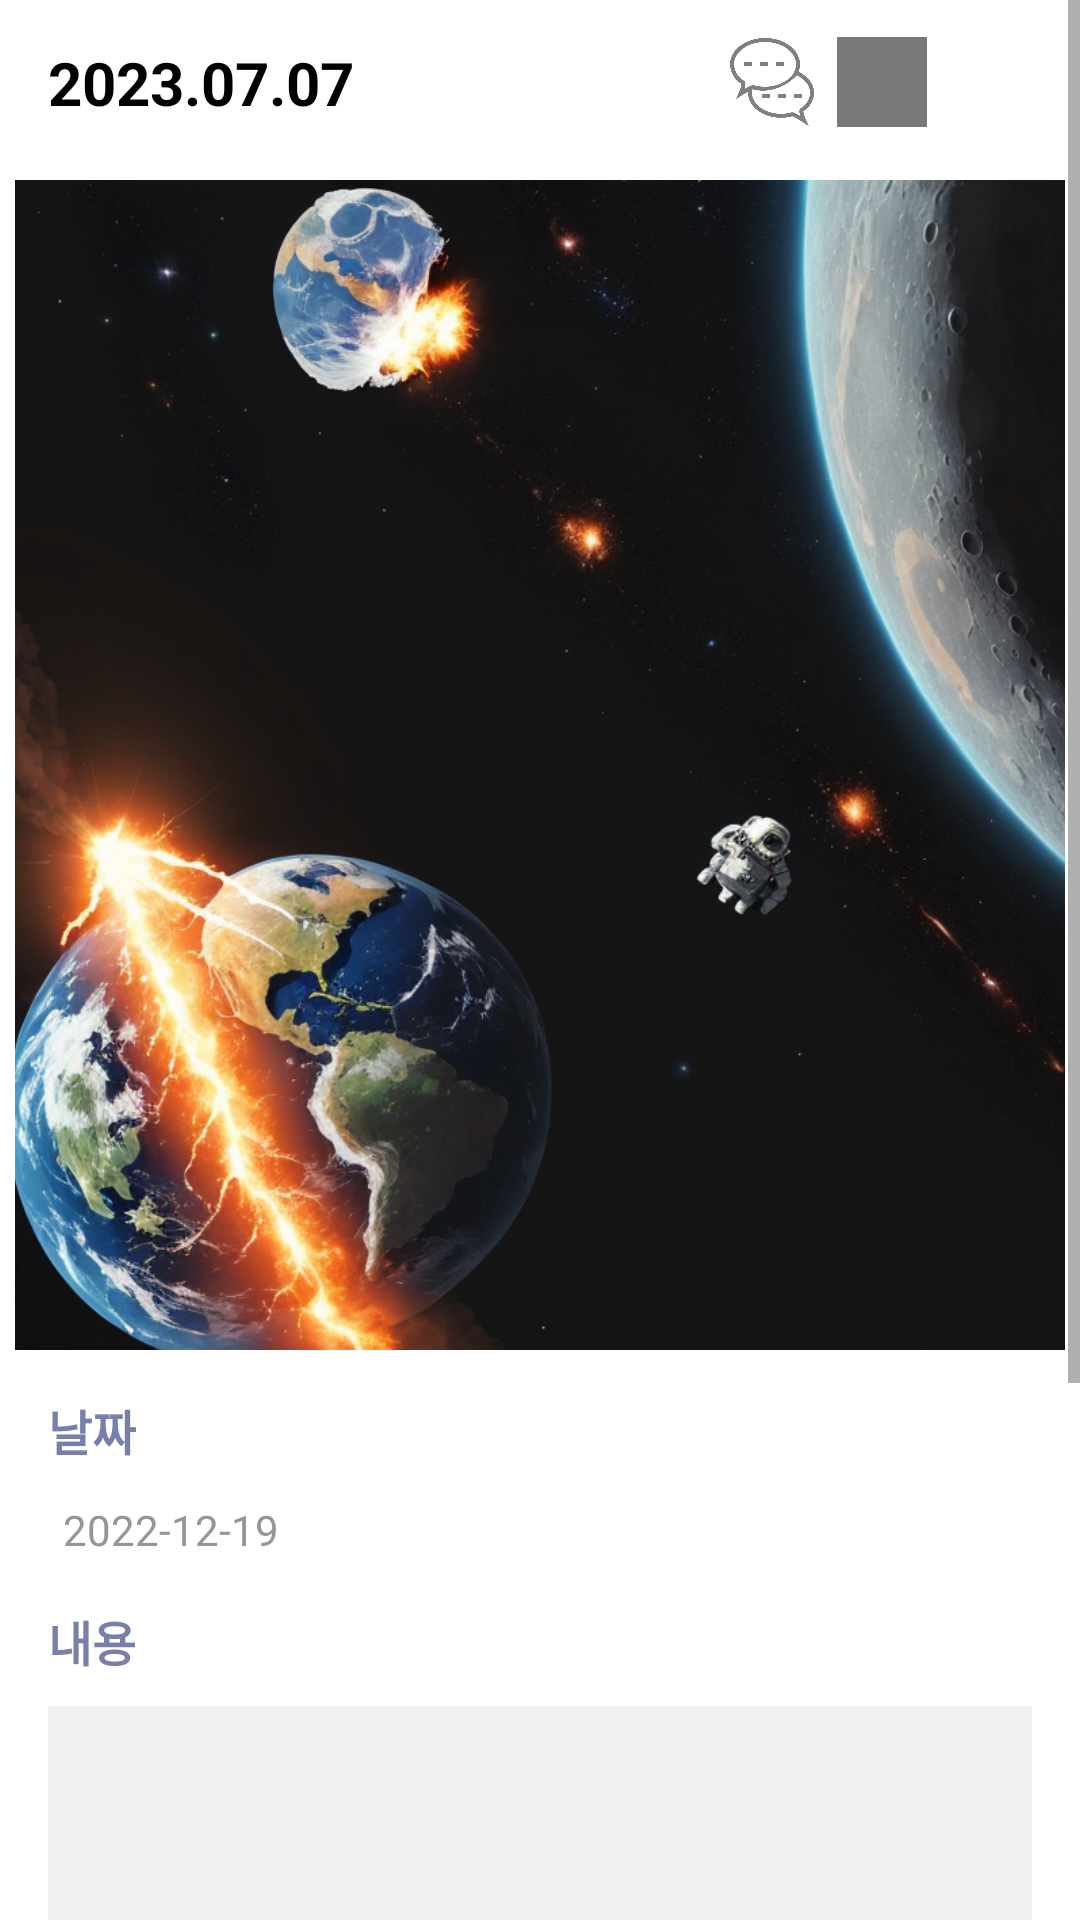

Named icons in this screenshot (1080×1920) and their centers, (x,y):
commu: (772,82)
